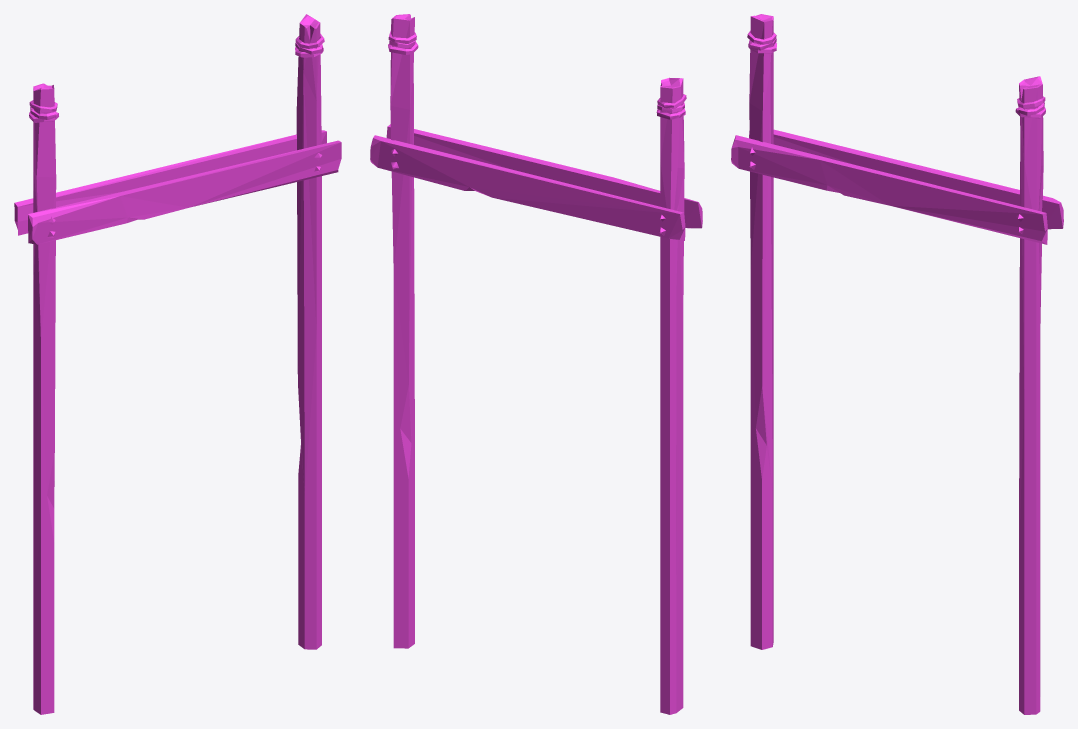
The model's file is SM_Pier_Rope_Pillars_Fantasy.fbx.
3 views of the same model, side by side, from view 1: azimuth 30°, elevation 25°; view 2: azimuth 150°, elevation 25°; view 3: azimuth 330°, elevation 25° (orthographic).
Visible parts, largest first — view 1: SM_Pier_Rope_Pillars_Fantasy; view 2: SM_Pier_Rope_Pillars_Fantasy; view 3: SM_Pier_Rope_Pillars_Fantasy.
Part boxes in pixels (x1,y1,x2,y2): SM_Pier_Rope_Pillars_Fantasy: (14, 14, 341, 714); SM_Pier_Rope_Pillars_Fantasy: (370, 14, 702, 714); SM_Pier_Rope_Pillars_Fantasy: (731, 14, 1063, 714).
Size of the model in its own units: 3.8 by 7.23 by 0.4969.
